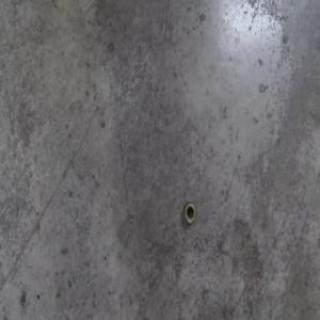Nuttrack_idkeyframe: (183, 201, 196, 226)
